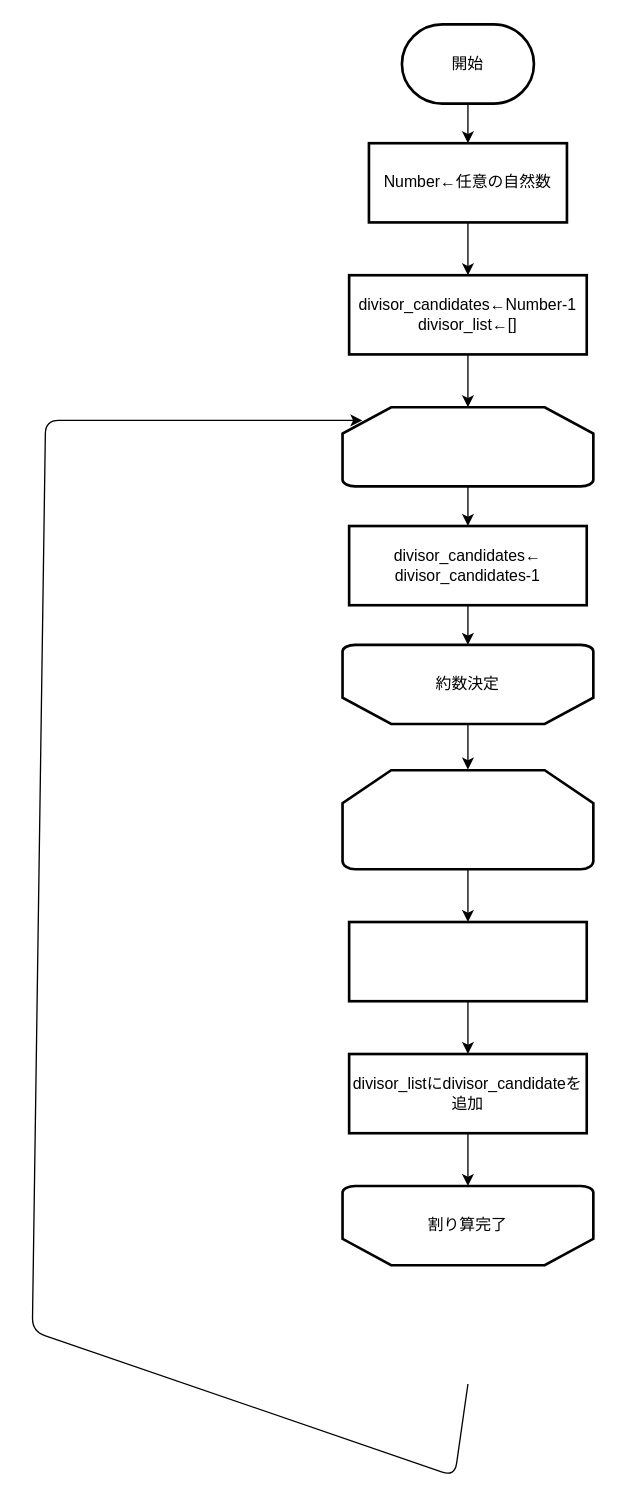
The diagram is 618 pixels wide and 1510 high, and some of its shapes have lost their labels. Each missing label, with the centre of its shape:
Number← Number/divisor_candidate: point (467, 961)
割り算実行 リスト追加 継続条件：Number%divisor_candidate=0: point (467, 819)
約数決定 継続条件：Number%divisor_candidate!=0: point (467, 446)
